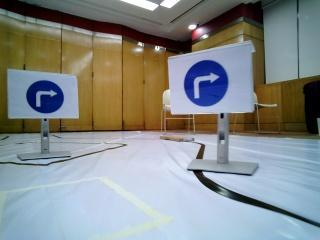right: (167, 58, 249, 111), (9, 73, 79, 115)
